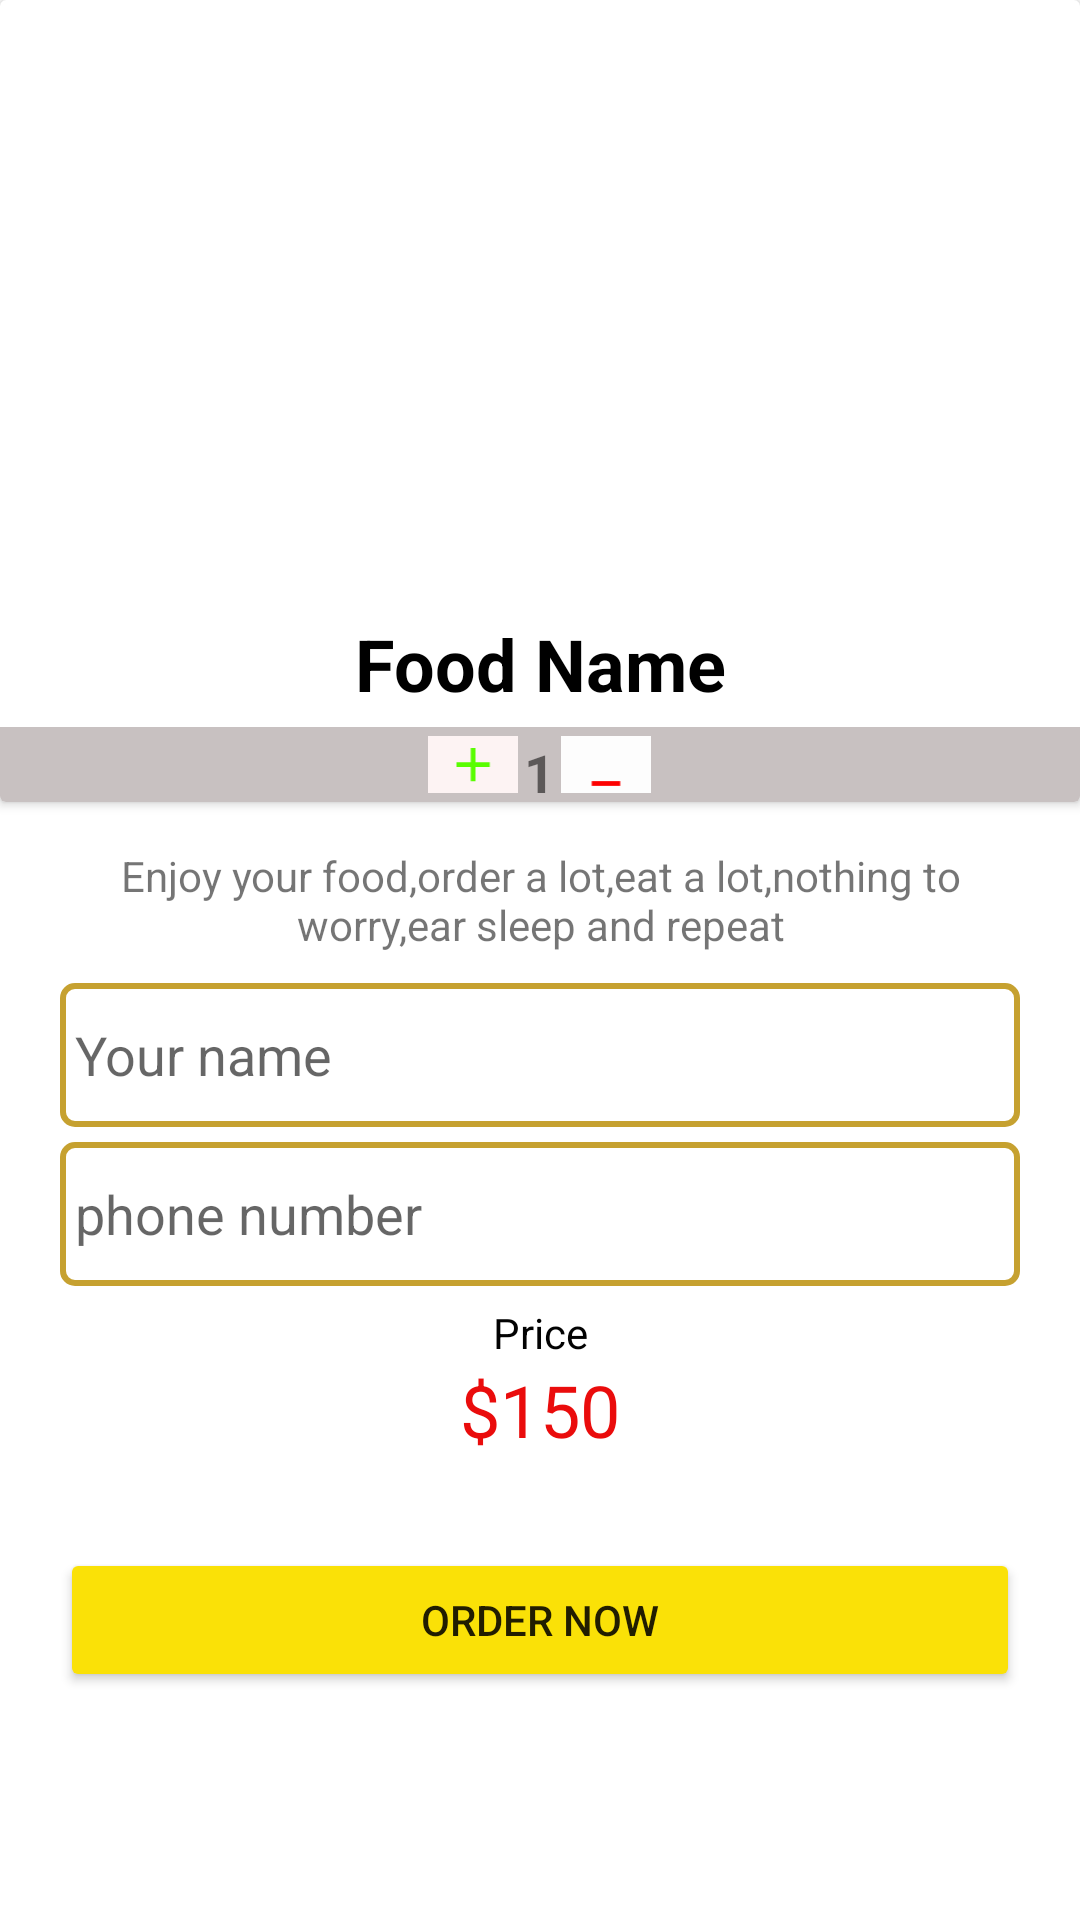

Screen size 1080px x 1920px. Icon name, then its box in pixels as [left=x1, top=y1, right=x2, bottom=y2]:
add: [left=428, top=736, right=518, bottom=793]
minus: [left=561, top=736, right=651, bottom=793]
